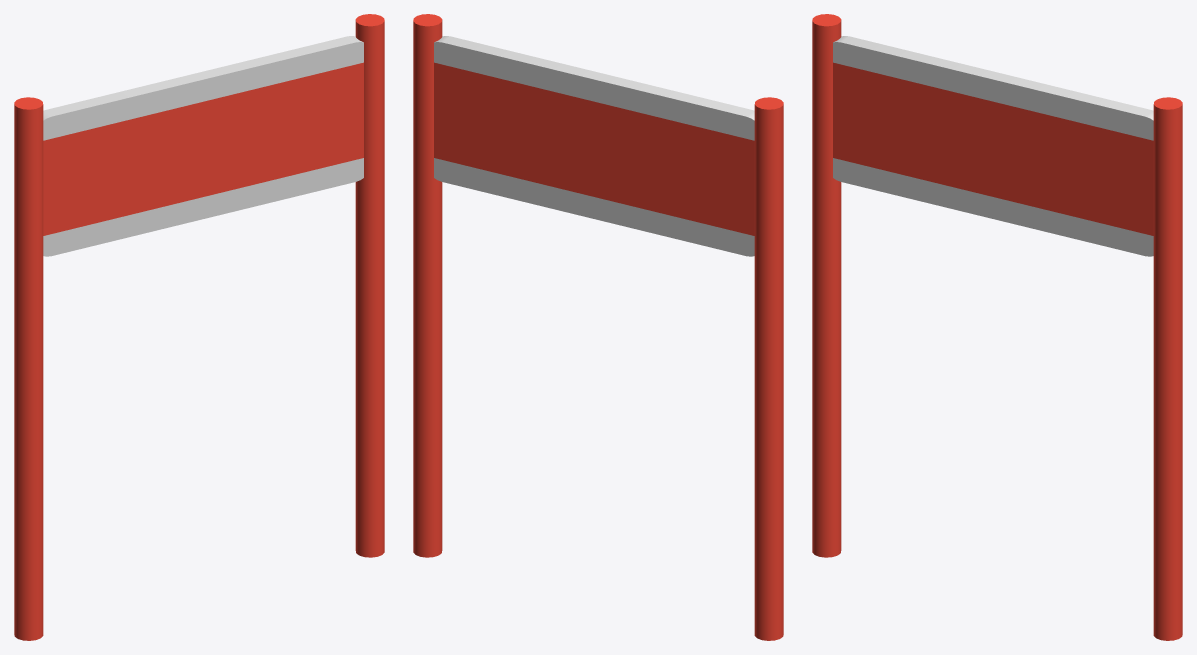
File: Gate D.fbx
3 renders of one model, left to right at view 1: azimuth 30°, elevation 25°; view 2: azimuth 150°, elevation 25°; view 3: azimuth 330°, elevation 25°, orthographic.
Parts seen in each view (by area): view 1: Gate D, Gate D.002, Gate D.001; view 2: Gate D, Gate D.002, Gate D.001; view 3: Gate D, Gate D.001, Gate D.002.
Boxes of the visible parts, x1=… form: Gate D: x1=43, y1=36, x2=363, y2=256; Gate D.002: x1=14, y1=97, x2=43, y2=640; Gate D.001: x1=355, y1=14, x2=384, y2=557; Gate D: x1=434, y1=36, x2=754, y2=256; Gate D.002: x1=754, y1=97, x2=783, y2=640; Gate D.001: x1=413, y1=14, x2=442, y2=557; Gate D: x1=833, y1=36, x2=1153, y2=256; Gate D.001: x1=1153, y1=97, x2=1182, y2=640; Gate D.002: x1=812, y1=14, x2=841, y2=557.
Size of the model in its own units: 308 by 427 by 21.39.
